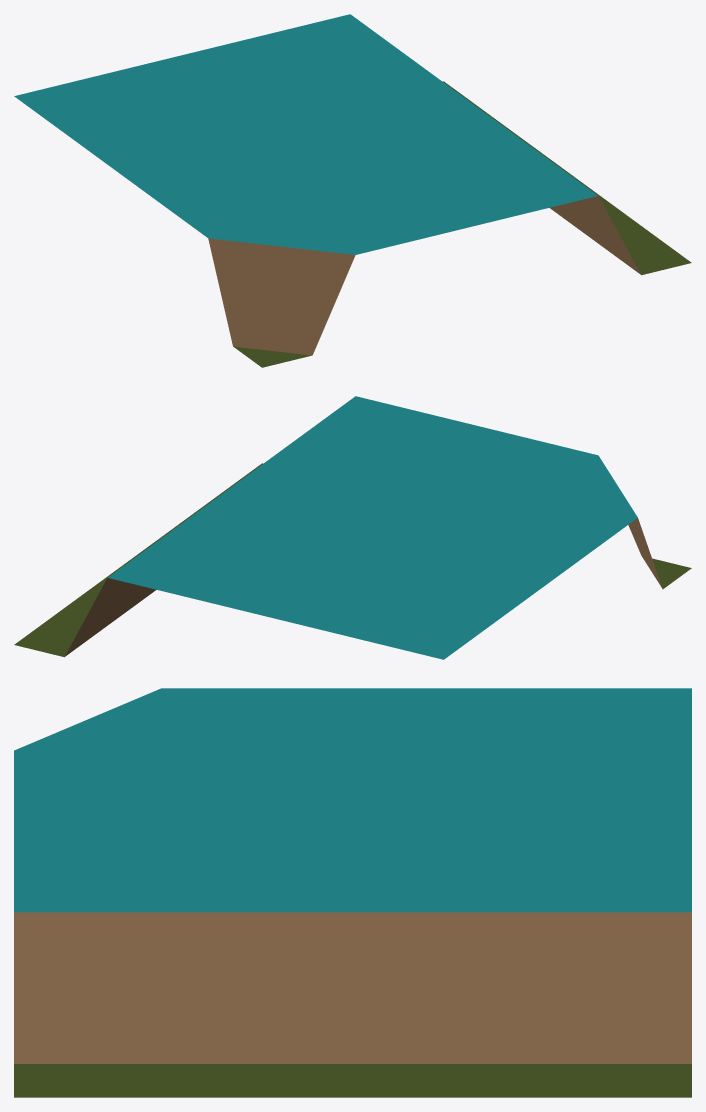
The model's file is TB_Env_Mountain_J.FBX.
The picture shows the model from 3 angles, top to bottom: view 1: azimuth 30°, elevation 25°; view 2: azimuth 150°, elevation 25°; view 3: azimuth 270°, elevation 25°; orthographic projection. The views are drawn at different scales.
Parts seen in each view (by area): view 1: TB_Env_Mountain_J; view 2: TB_Env_Mountain_J; view 3: TB_Env_Mountain_J.
Part boxes in pixels (x1,y1,x2,y2): TB_Env_Mountain_J: (14,14,691,367); TB_Env_Mountain_J: (14,396,691,659); TB_Env_Mountain_J: (14,688,691,1097).
Size of the model in its own units: 10 by 2 by 10.
1 material, 1 textured.
